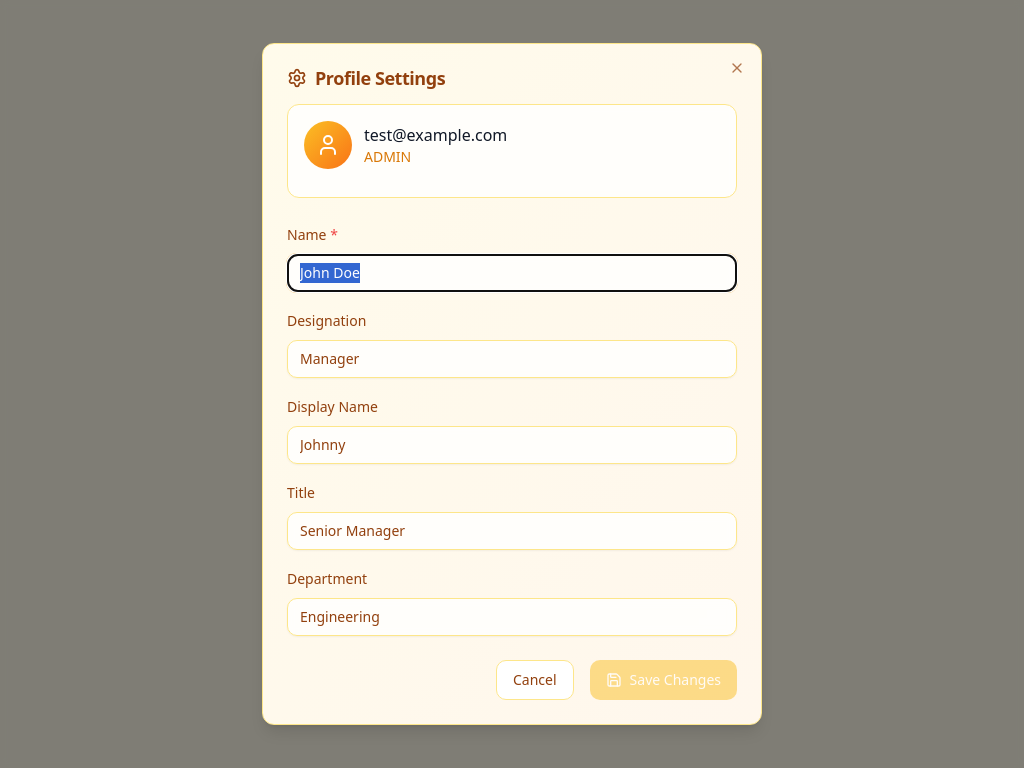
ProfileSettings › enables save button when there are valid changes
The width and height of the screenshot is (1024, 768).
Note: Change form values
Clear the field labelled "Name *" at [512, 273], box [287,254,737,292]
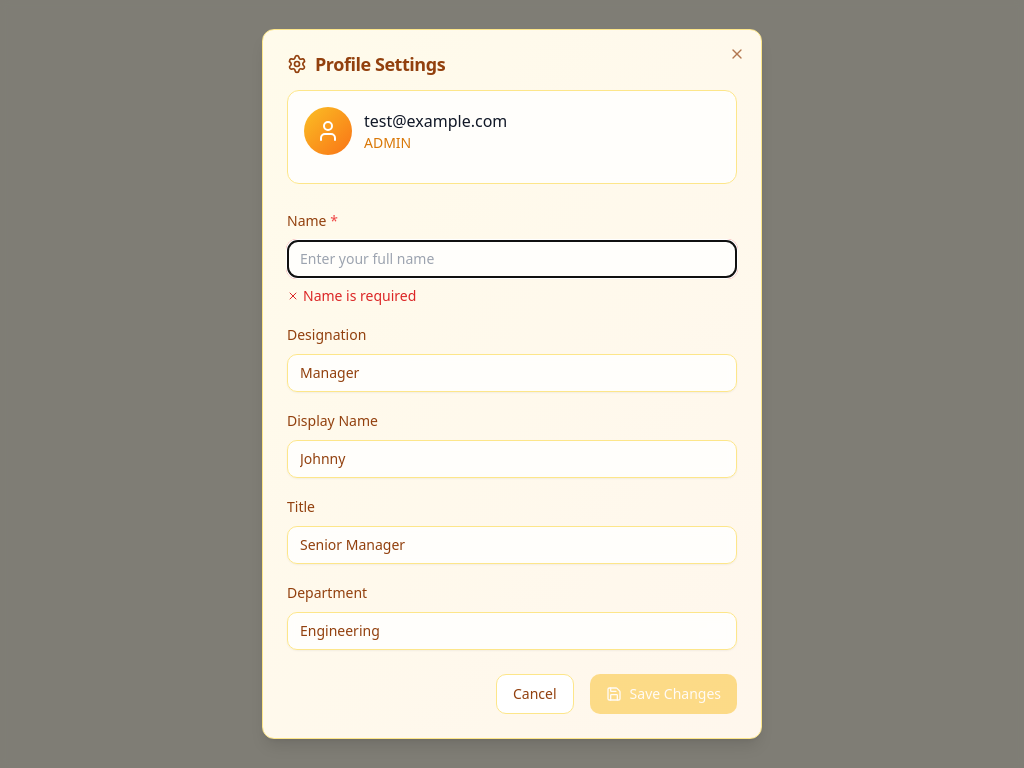
Type "New Valid Name" into the field labelled "Name *" at [512, 259], box [287,240,737,278]
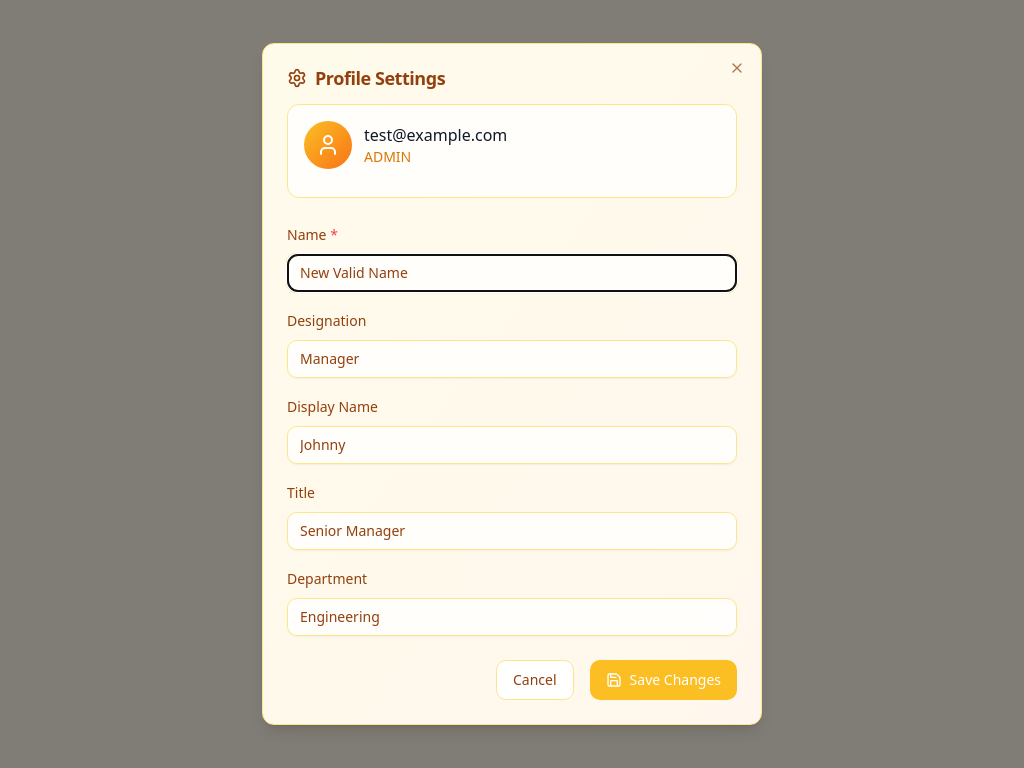
Check: the button "Save Changes" is enabled, box [590,660,737,700]
